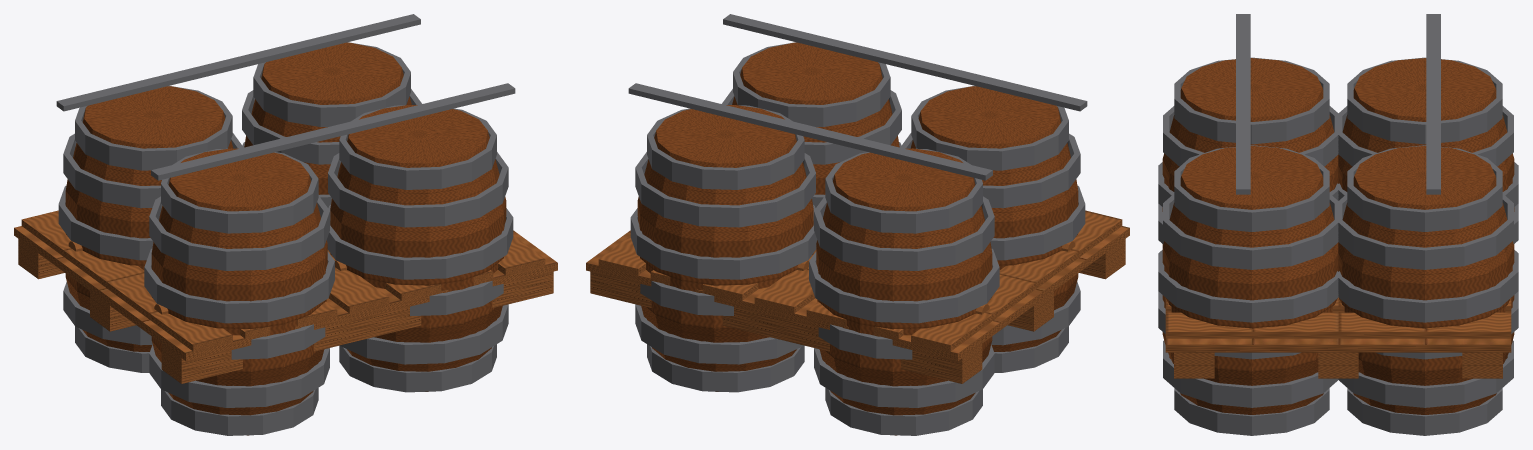
File: galpao_barris.glb
3 renders of one model, left to right at view 1: azimuth 30°, elevation 25°; view 2: azimuth 150°, elevation 25°; view 3: azimuth 270°, elevation 25°, orthographic.
Parts seen in each view (by area): view 1: cask-pallet-iron, cask-pallet-oak, cask-pallet-timber; view 2: cask-pallet-iron, cask-pallet-oak, cask-pallet-timber; view 3: cask-pallet-iron, cask-pallet-oak, cask-pallet-timber.
Part boxes in pixels (x1,y1,x2,y2): cask-pallet-iron: (56,14,515,435); cask-pallet-oak: (65,42,506,435); cask-pallet-timber: (14,210,557,383); cask-pallet-iron: (628,14,1087,435); cask-pallet-oak: (637,42,1078,435); cask-pallet-timber: (586,210,1129,383); cask-pallet-iron: (1158,14,1518,435); cask-pallet-oak: (1162,58,1514,414); cask-pallet-timber: (1165,297,1511,378).
Bounding box in the file's own units: 1.5 × 0.995 × 1.25.
Materials: 3 (2 with a texture image).
